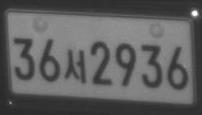2: (90, 40, 112, 85)
3: (12, 35, 35, 80), (140, 43, 163, 88)
6: (39, 37, 61, 83), (166, 46, 189, 89)
9: (114, 42, 137, 87)
서: (63, 48, 87, 84)
